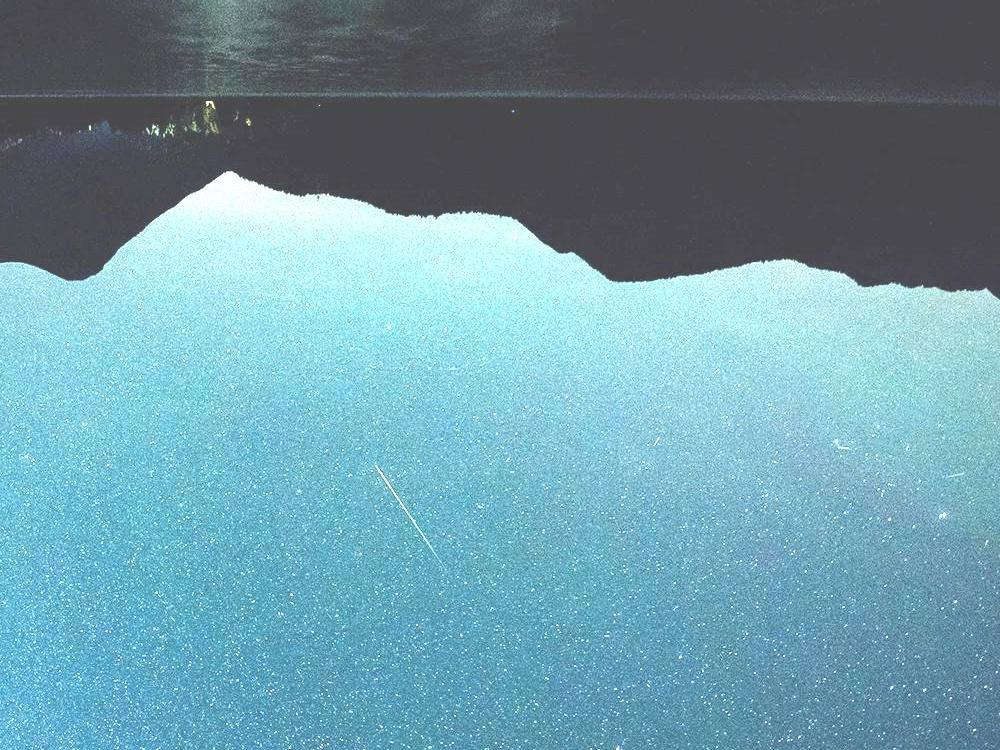meteorite: (344, 448, 467, 588)
